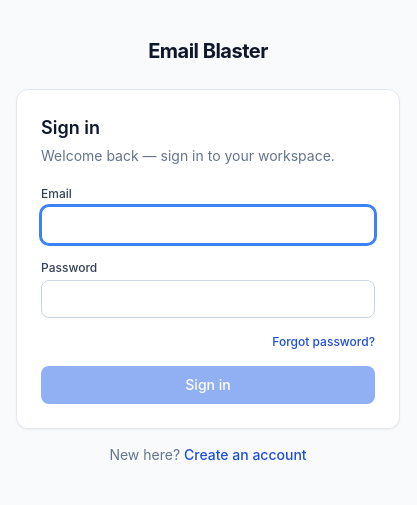
Test: Login page › shows an error on invalid credentials and stays put
Type "ada@example.com" into the field with test id "login-email".
click(208, 225); type("ada@example.com")  # box [41,206,375,244]
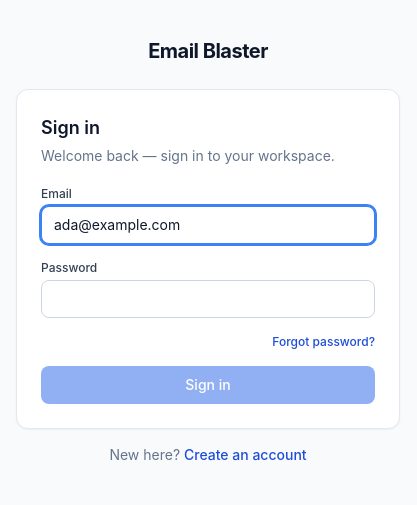
Type "hunter22" into the password field with test id "login-password".
click(208, 299); type("hunter22")  # box [41,280,375,318]
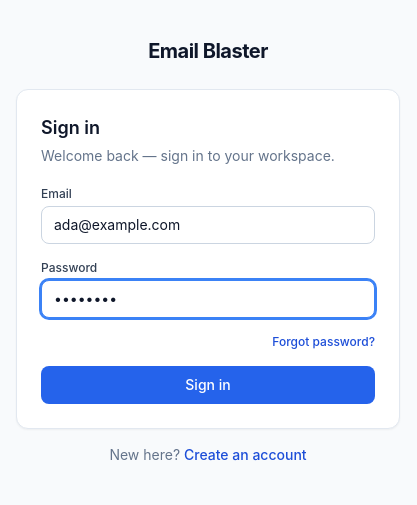
Click the button with test id "login-submit".
click(208, 385)  # box [41,366,375,404]
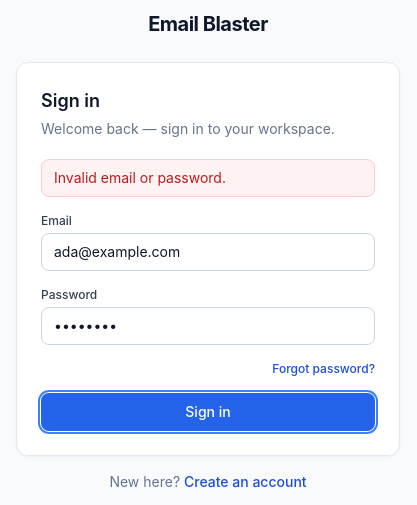
Now the message with test id "form-error" shows "Invalid email or password", box [54,169,226,186]
